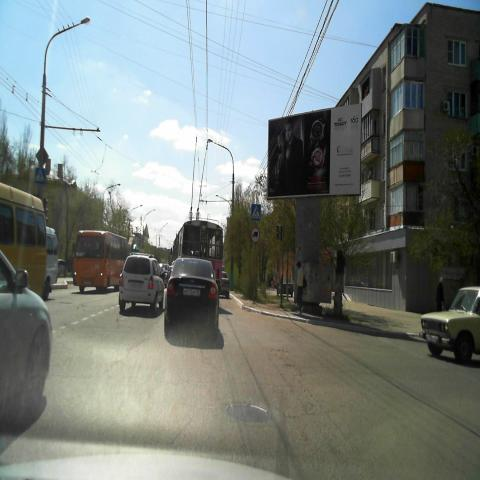3_4_1: (250, 226, 260, 244)
